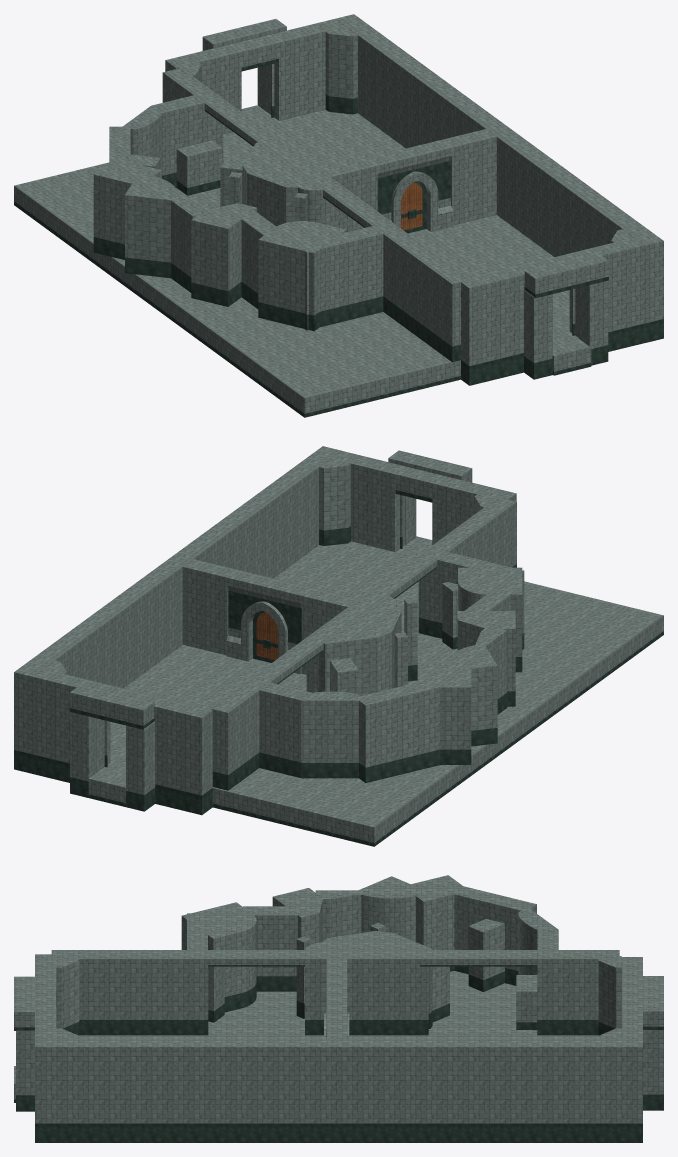
File: hallbroken.glb
The picture shows the model from 3 angles, top to bottom: view 1: azimuth 30°, elevation 25°; view 2: azimuth 150°, elevation 25°; view 3: azimuth 270°, elevation 25°; orthographic projection.
Visible parts, largest first — view 1: block (×26), block_corner_large (×4), block_corner_round_small, block_corner_round_large (×2), block_corner_small, wall_gate, block_round, door; view 2: block (×26), block_corner_large (×4), block_round, wall_gate, block_corner_round_large, block_corner_round_small, block_corner_small, block_quarter (×2), door; view 3: block (×28), block_corner_large (×5), block_corner_round_small, block_corner_round_large, block_corner_small, block_round, wall_gate, block_quarter.
Part boxes in pixels (bbox=[...]): block (×26): bbox=[14, 14, 663, 417]; block_corner_large (×4): bbox=[163, 26, 357, 292]; block_corner_round_small: bbox=[258, 221, 346, 331]; block_corner_round_large (×2): bbox=[125, 173, 322, 278]; block_corner_small: bbox=[191, 203, 257, 306]; wall_gate: bbox=[367, 140, 453, 231]; block_round: bbox=[123, 105, 162, 178]; door: bbox=[401, 181, 426, 233]; block (×26): bbox=[14, 446, 663, 846]; block_corner_large (×4): bbox=[319, 458, 507, 714]; block_round: bbox=[301, 691, 359, 778]; wall_gate: bbox=[226, 570, 311, 674]; block_corner_round_large: bbox=[444, 644, 497, 746]; block_corner_round_small: bbox=[458, 567, 522, 672]; block_corner_small: bbox=[457, 611, 515, 706]; block_quarter (×2): bbox=[394, 598, 417, 687]; door: bbox=[253, 611, 278, 662]; block (×28): bbox=[14, 875, 663, 1142]; block_corner_large (×5): bbox=[56, 890, 621, 1035]; block_corner_round_small: bbox=[181, 902, 256, 1012]; block_corner_round_large: bbox=[359, 876, 427, 941]; block_corner_small: bbox=[272, 888, 322, 944]; block_round: bbox=[518, 909, 558, 974]; wall_gate: bbox=[324, 981, 349, 1038]; block_quarter: bbox=[296, 936, 311, 1018].
Bounding box in the file's own units: 19.29 × 5.2 × 30.79.
102 materials, 102 textured.
